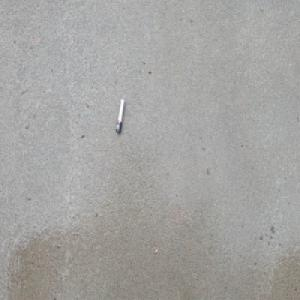Battery: (115, 98, 125, 134)
